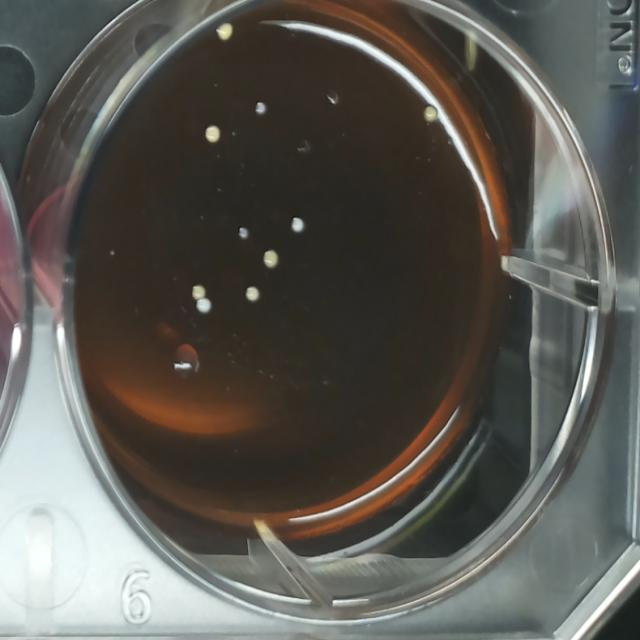Staphylococcus: (286, 212, 308, 240), (260, 245, 282, 272), (214, 19, 235, 43), (202, 123, 222, 146), (242, 284, 262, 306), (422, 102, 439, 127), (193, 296, 213, 316), (190, 282, 207, 303), (252, 99, 268, 118), (236, 224, 251, 243)
